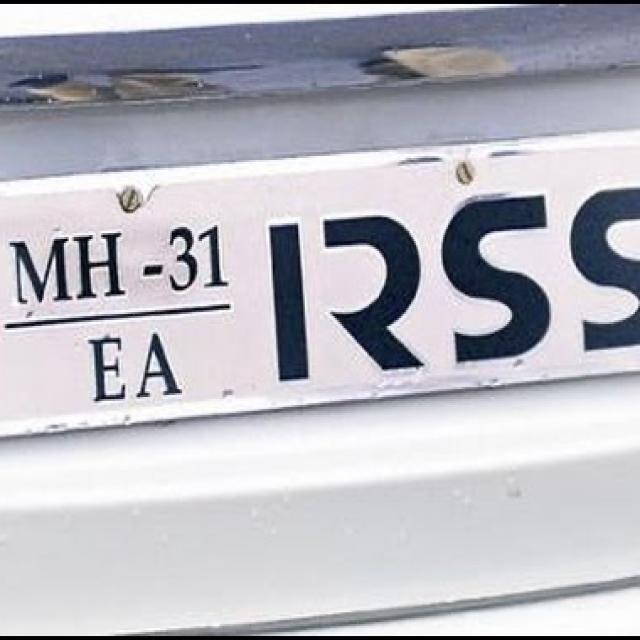license_plate: (0, 190, 640, 424)
